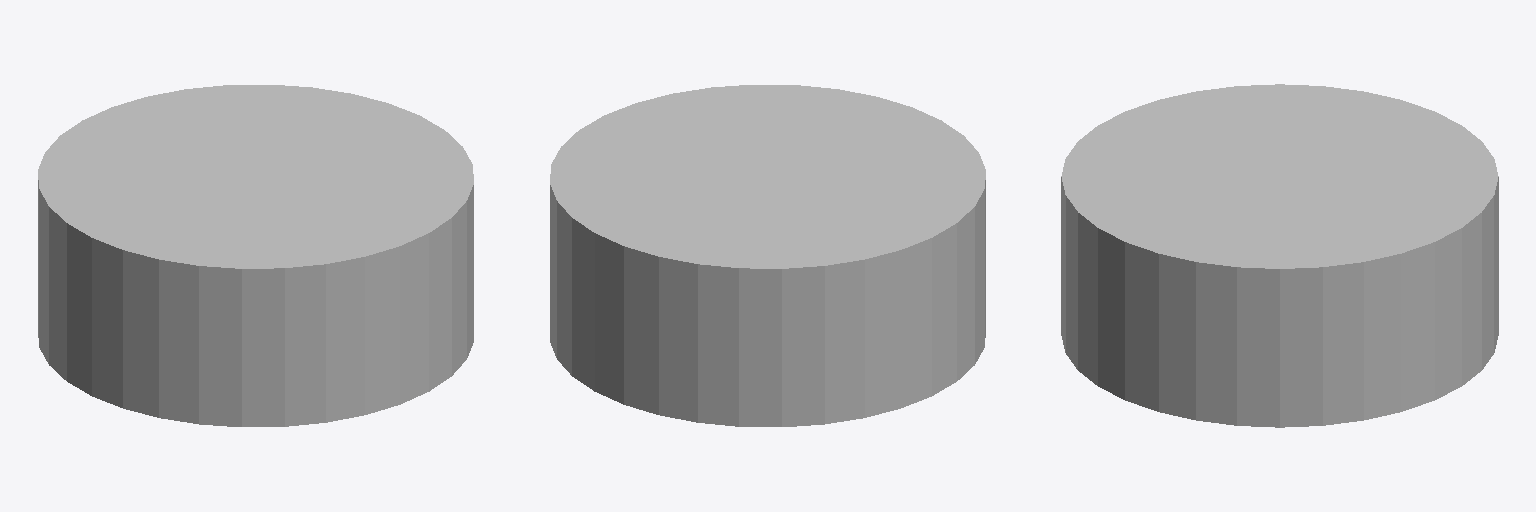
File: player.obj
3 renders of one model, left to right at view 1: azimuth 30°, elevation 25°; view 2: azimuth 150°, elevation 25°; view 3: azimuth 270°, elevation 25°, orthographic.
Visible parts, largest first — view 1: 円柱; view 2: 円柱; view 3: 円柱.
Boxes of the visible parts, x1,y1,x2,y2 form: 円柱: [38, 85, 473, 426]; 円柱: [550, 85, 985, 426]; 円柱: [1061, 84, 1498, 427].
Bounding box in the file's own units: 2 × 0.8 × 2.